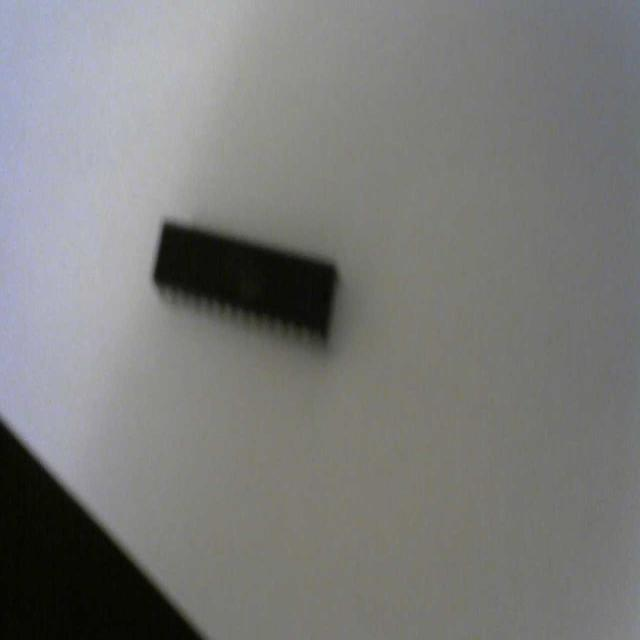atmega: (150, 212, 340, 354)
